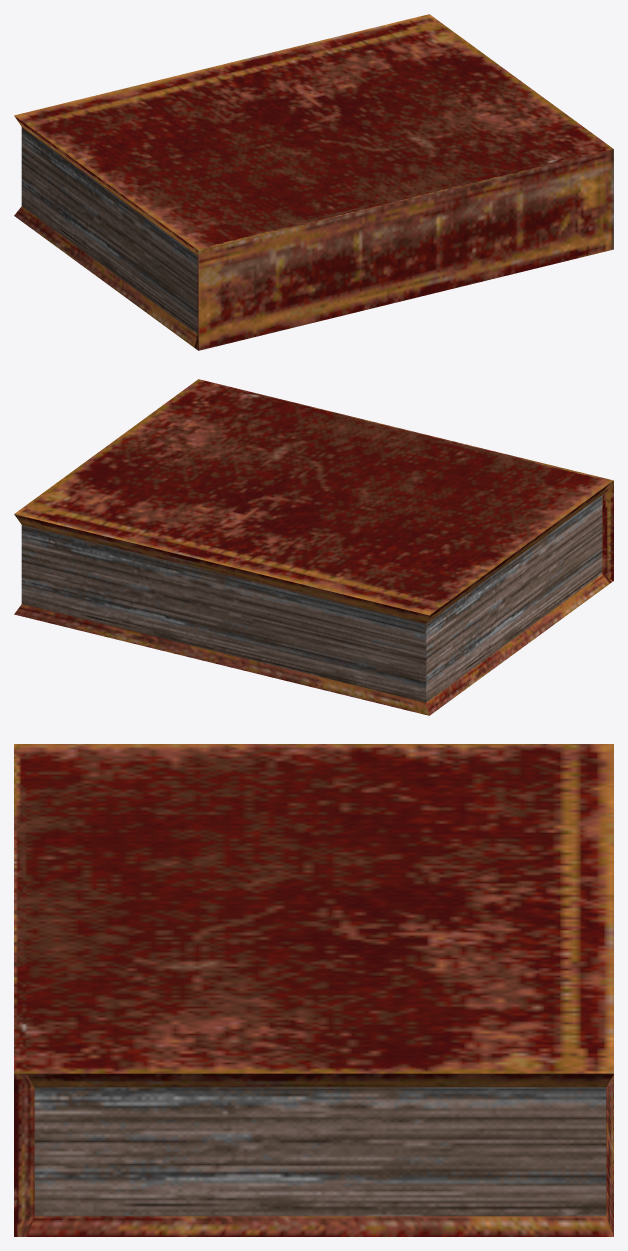
The model's file is book.fbx.
3 views of the same model, one above another, from view 1: azimuth 30°, elevation 25°; view 2: azimuth 150°, elevation 25°; view 3: azimuth 270°, elevation 25° (orthographic). The views are drawn at different scales.
Visible parts, largest first — view 1: book; view 2: book; view 3: book.
Boxes of the visible parts, x1,y1,x2,y2 form: book: [14, 14, 613, 350]; book: [14, 379, 613, 715]; book: [14, 744, 613, 1236].
Bounding box in the file's own units: 34.32 × 7.92 × 26.4.
